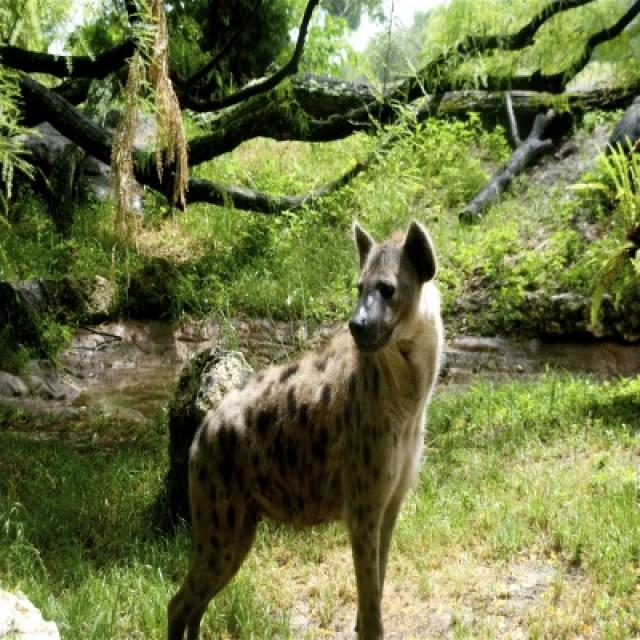hyena: (168, 221, 443, 638)
